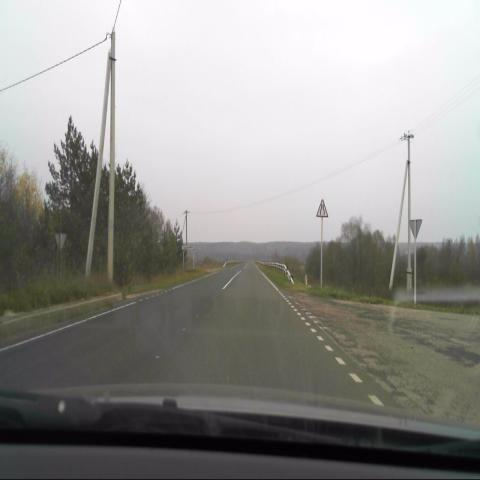1_20: (316, 199, 330, 217)
